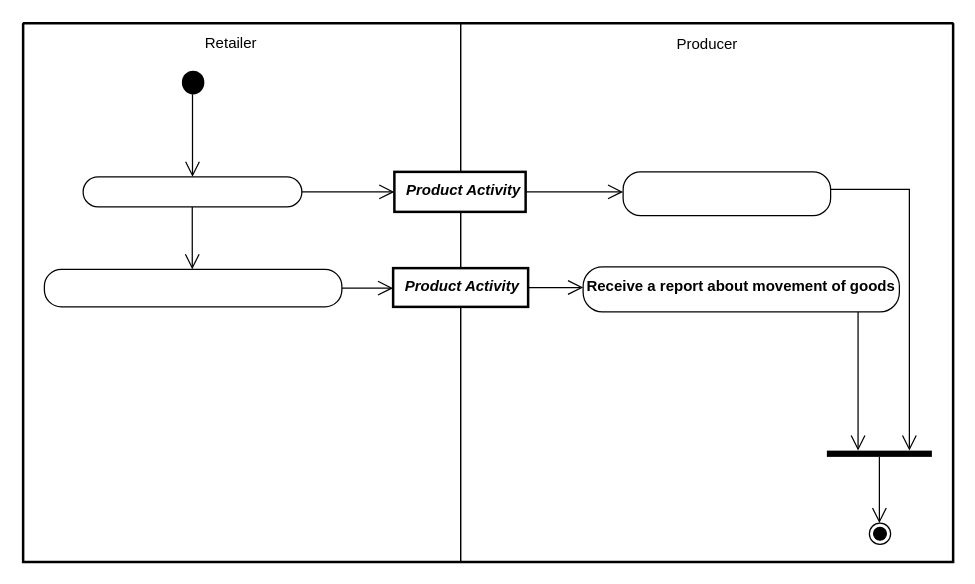
This 975x584 diagram has some shape labels left out. The centre of each missing label's shape, as x and y in pixels:
Receive a report about sales: the point at 726,193
Send a report about movement of goods: the point at 192,287
Send a report about sales: the point at 192,191
